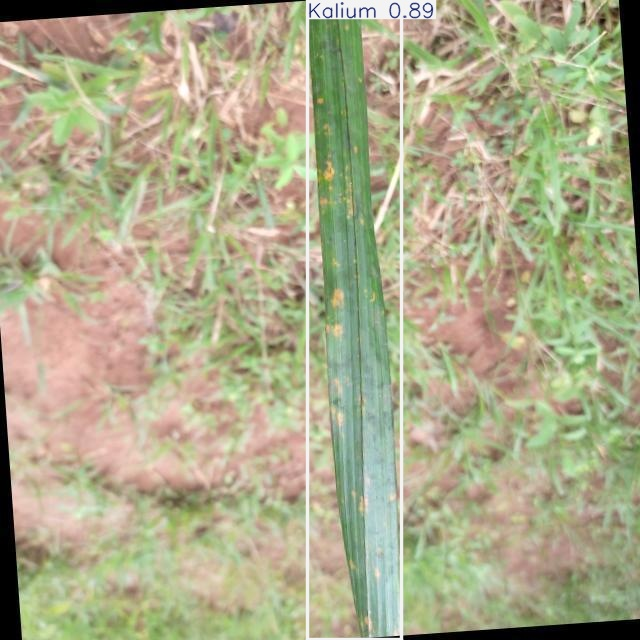Kalium: (308, 0, 401, 640)
